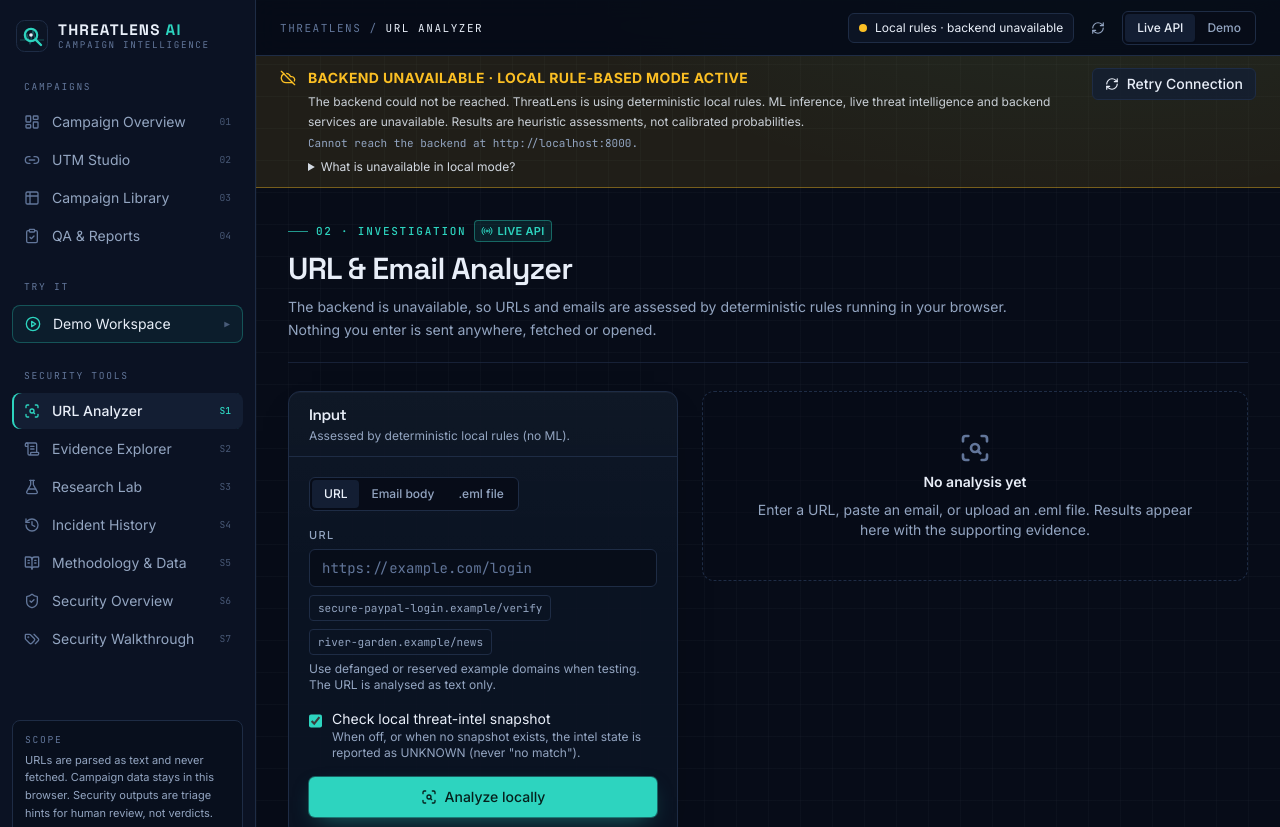
Test case: B. local deterministic mode › warns persistently and analyses the user's real input locally, without contacting the backend
Expected: the message with test id "local-mode-banner" shows "BACKEND UNAVAILABLE · LOCAL RULE-BASED MODE ACTIVE", [308,69,748,86]
Expected: the message with test id "local-mode-banner" shows "The backend could not be reached. ThreatLens is using deterministic local rules. ML inference, live threat intelligence and backend services are unavailable. Re", [308,94,1050,128]
Click the heading "What is unavailable in local mode?" at (418, 166), box [321,159,515,174]
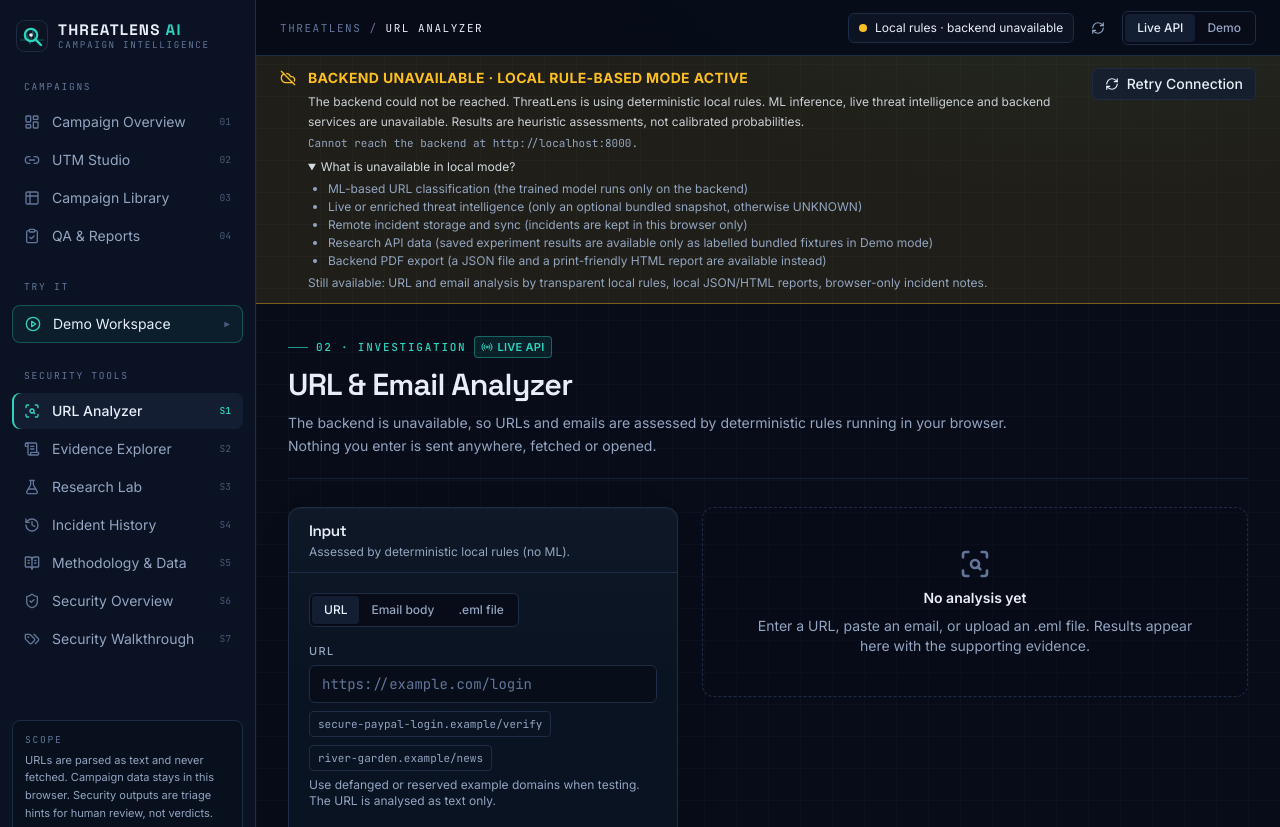
Now the list item "ML-based URL classification" is shown, box [328,181,748,196]
Type "https://paypal.com@evil-login-verify.example/" into the field labelled "URL" at (483, 684), box [309,665,657,703]
(page scrolled)
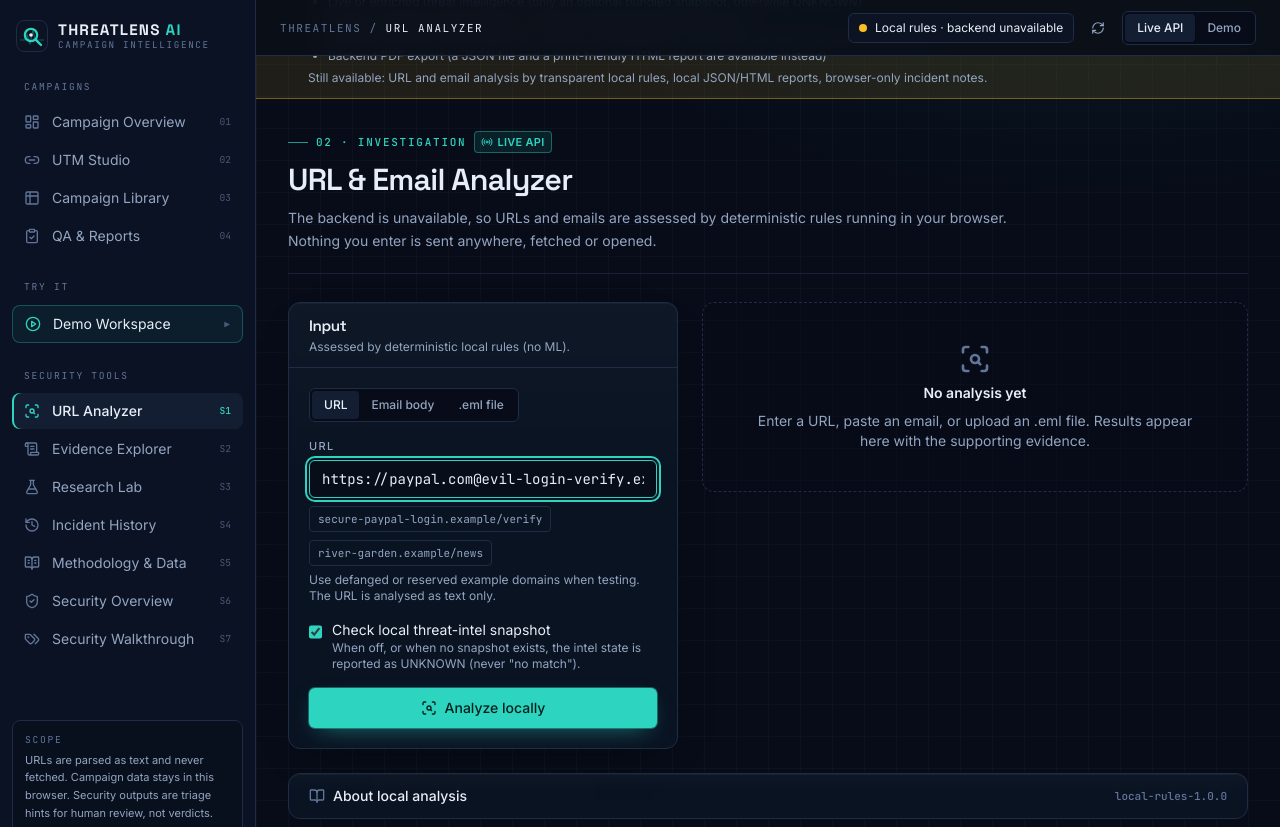
Click the button "Analyze locally" at (483, 708), box [309,688,657,728]
(page scrolled)
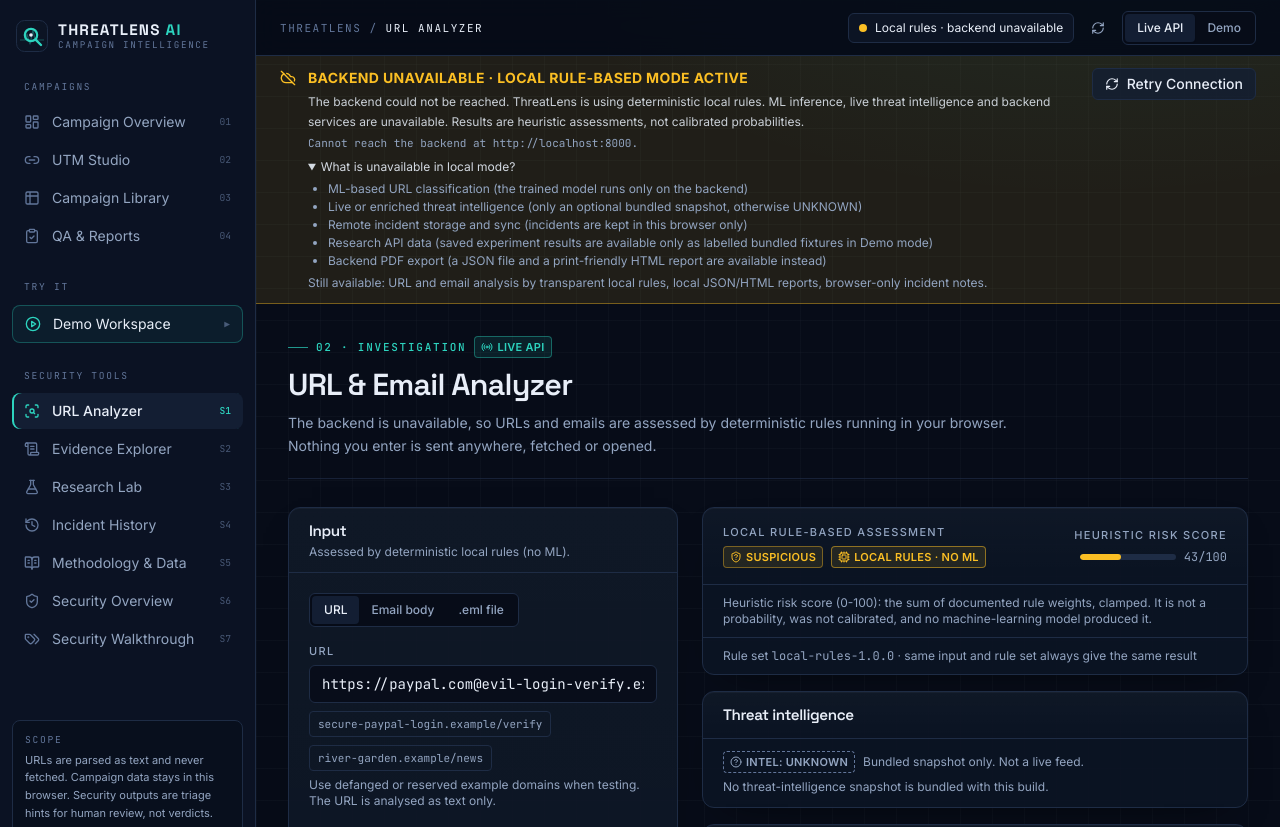
Now the element with test id "local-result" shows "LOCAL RULES · no ML", box [854,550,979,564]
Now the element with test id "local-result" shows "not a probability", box [723,594,1206,626]
Now the element with test id "local-result" shows "local-rules-1.0.0", box [772,648,894,664]
